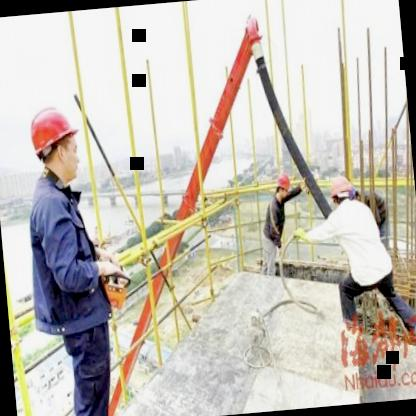helmet: (24, 92, 89, 186), (326, 176, 360, 210), (272, 167, 294, 202)
